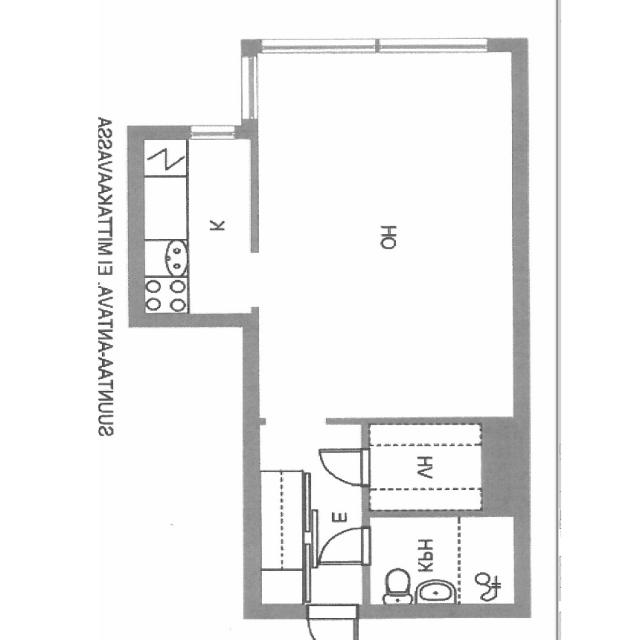door: (316, 527, 370, 566), (318, 449, 370, 485), (306, 604, 356, 640)
